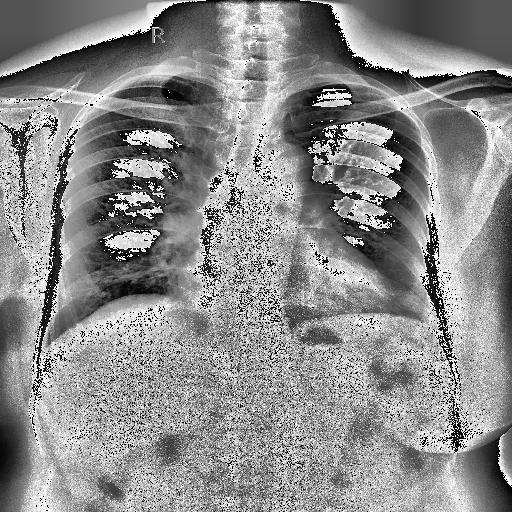0- Aortic enlargement: (250, 142, 316, 194)
13- Pulmonary fibrosis: (96, 264, 164, 284)
3- Cardiomegaly: (176, 256, 396, 318), (176, 262, 400, 314)
9- Other lesion: (203, 128, 276, 328)
